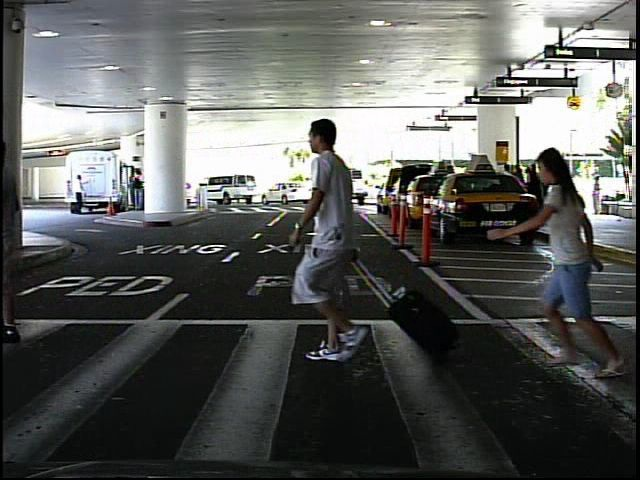person: (499, 130, 640, 386), (290, 108, 388, 375), (69, 172, 87, 216), (593, 172, 602, 218)
